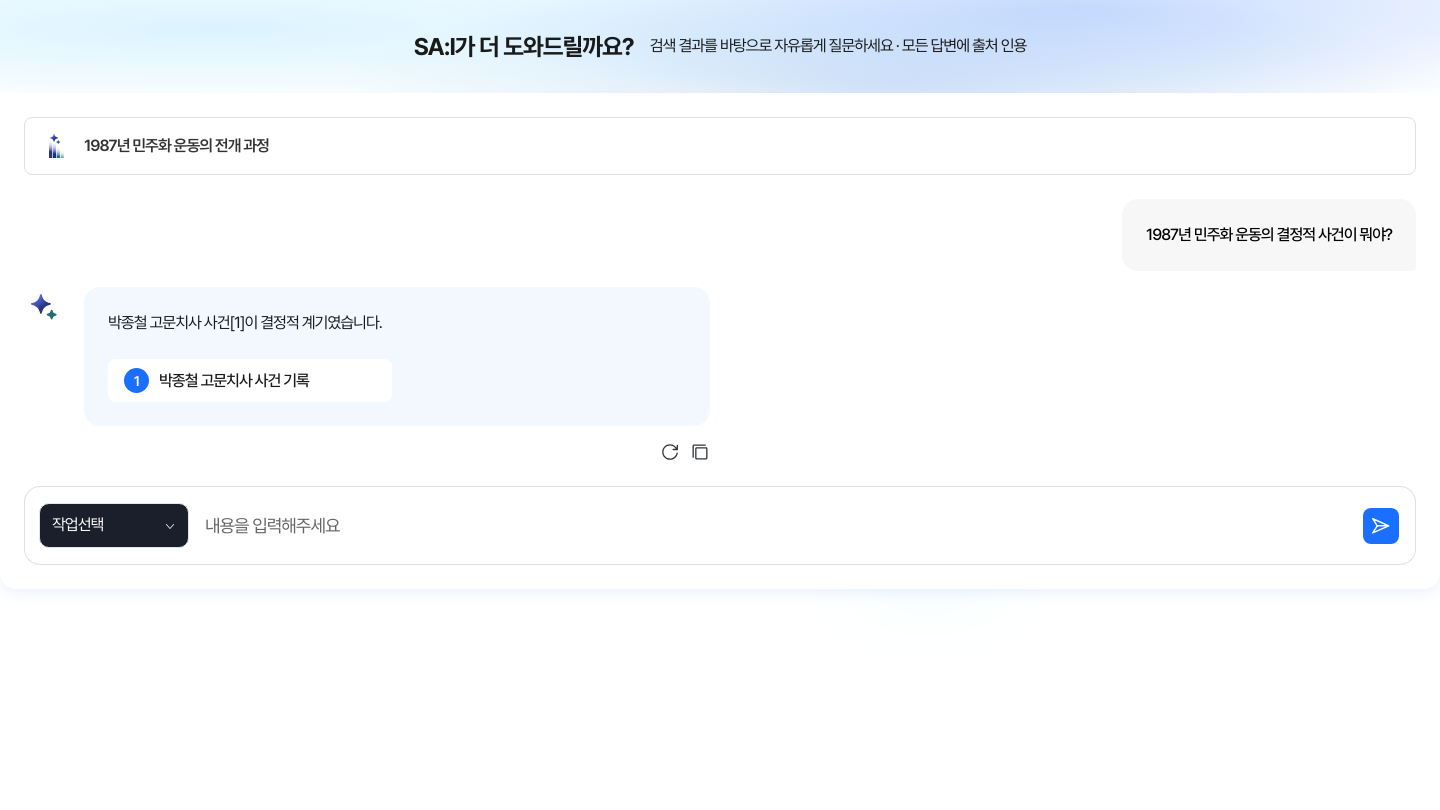
Test case: ChatView — 라이브 전송과 액션 토스트 › "복사" 클릭 시 클립보드에 실제로 쓰고 정확 문구 토스트가 뜬다
Click the button named "복사" at (700, 452), box [690, 442, 710, 462]
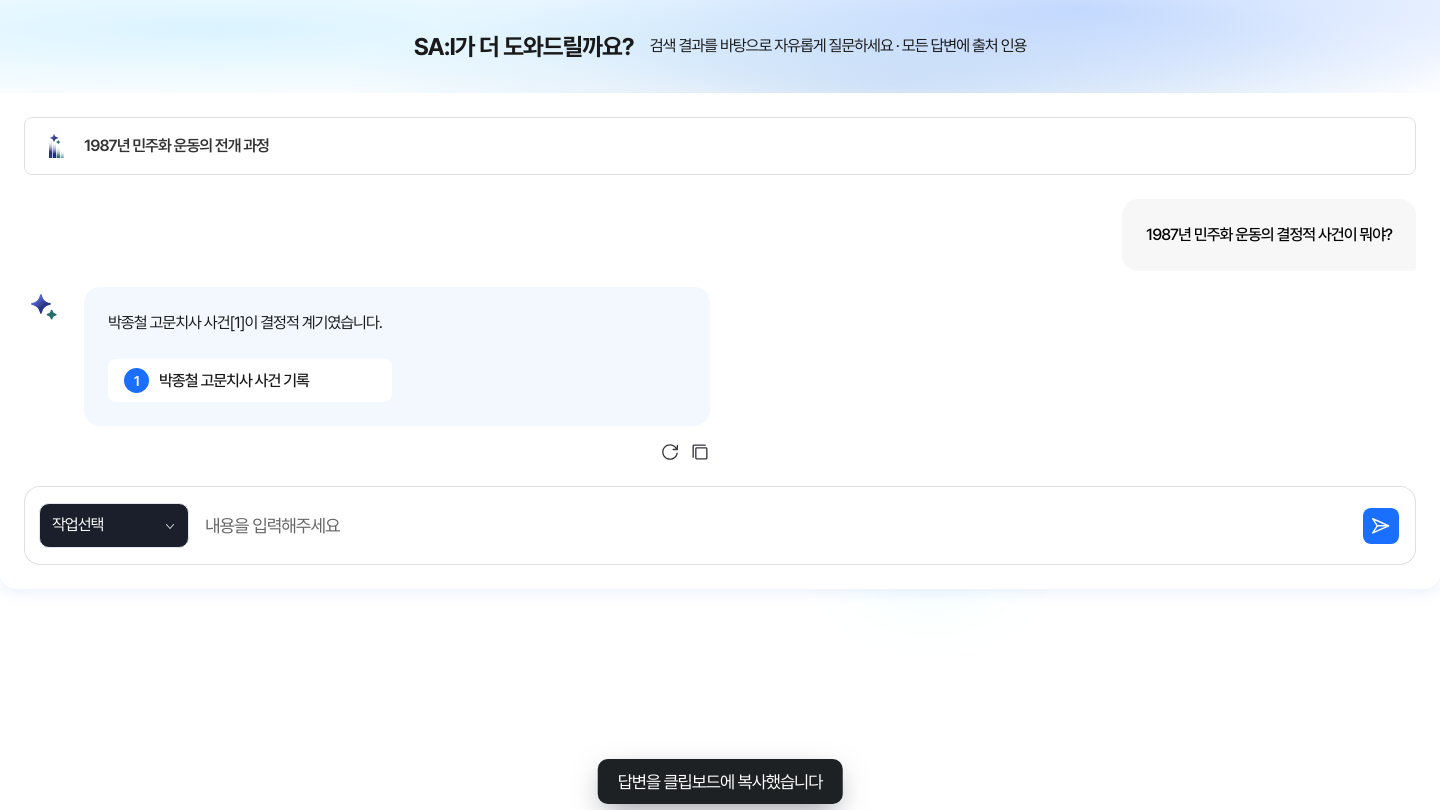
Expected: the text "답변을 클립보드에 복사했습니다" is shown, [598, 759, 842, 804]
